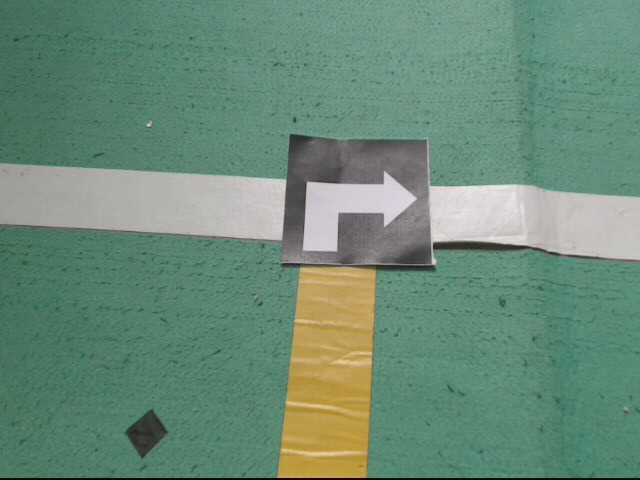right: (281, 133, 436, 267)
